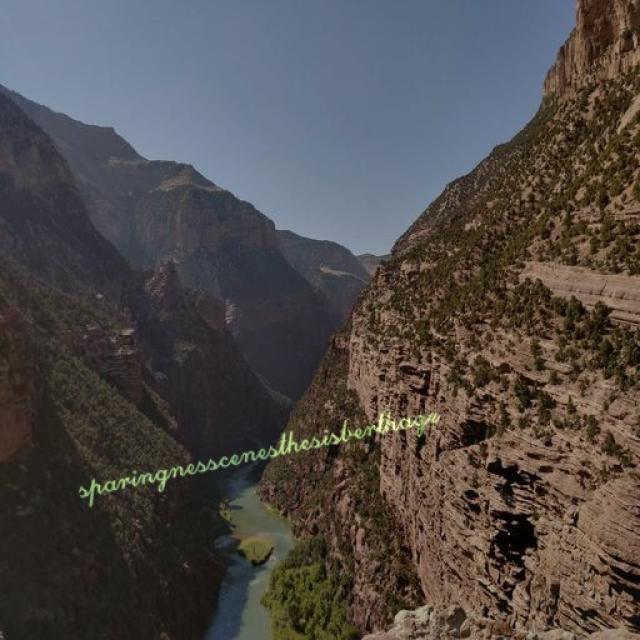watermark: (72, 397, 441, 501)
